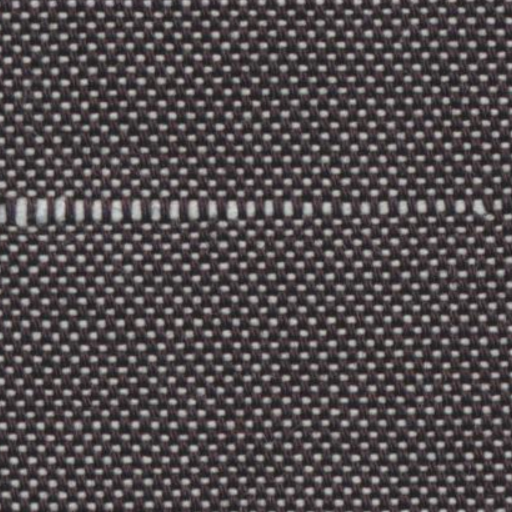DaiSha: (16, 179, 492, 240)
